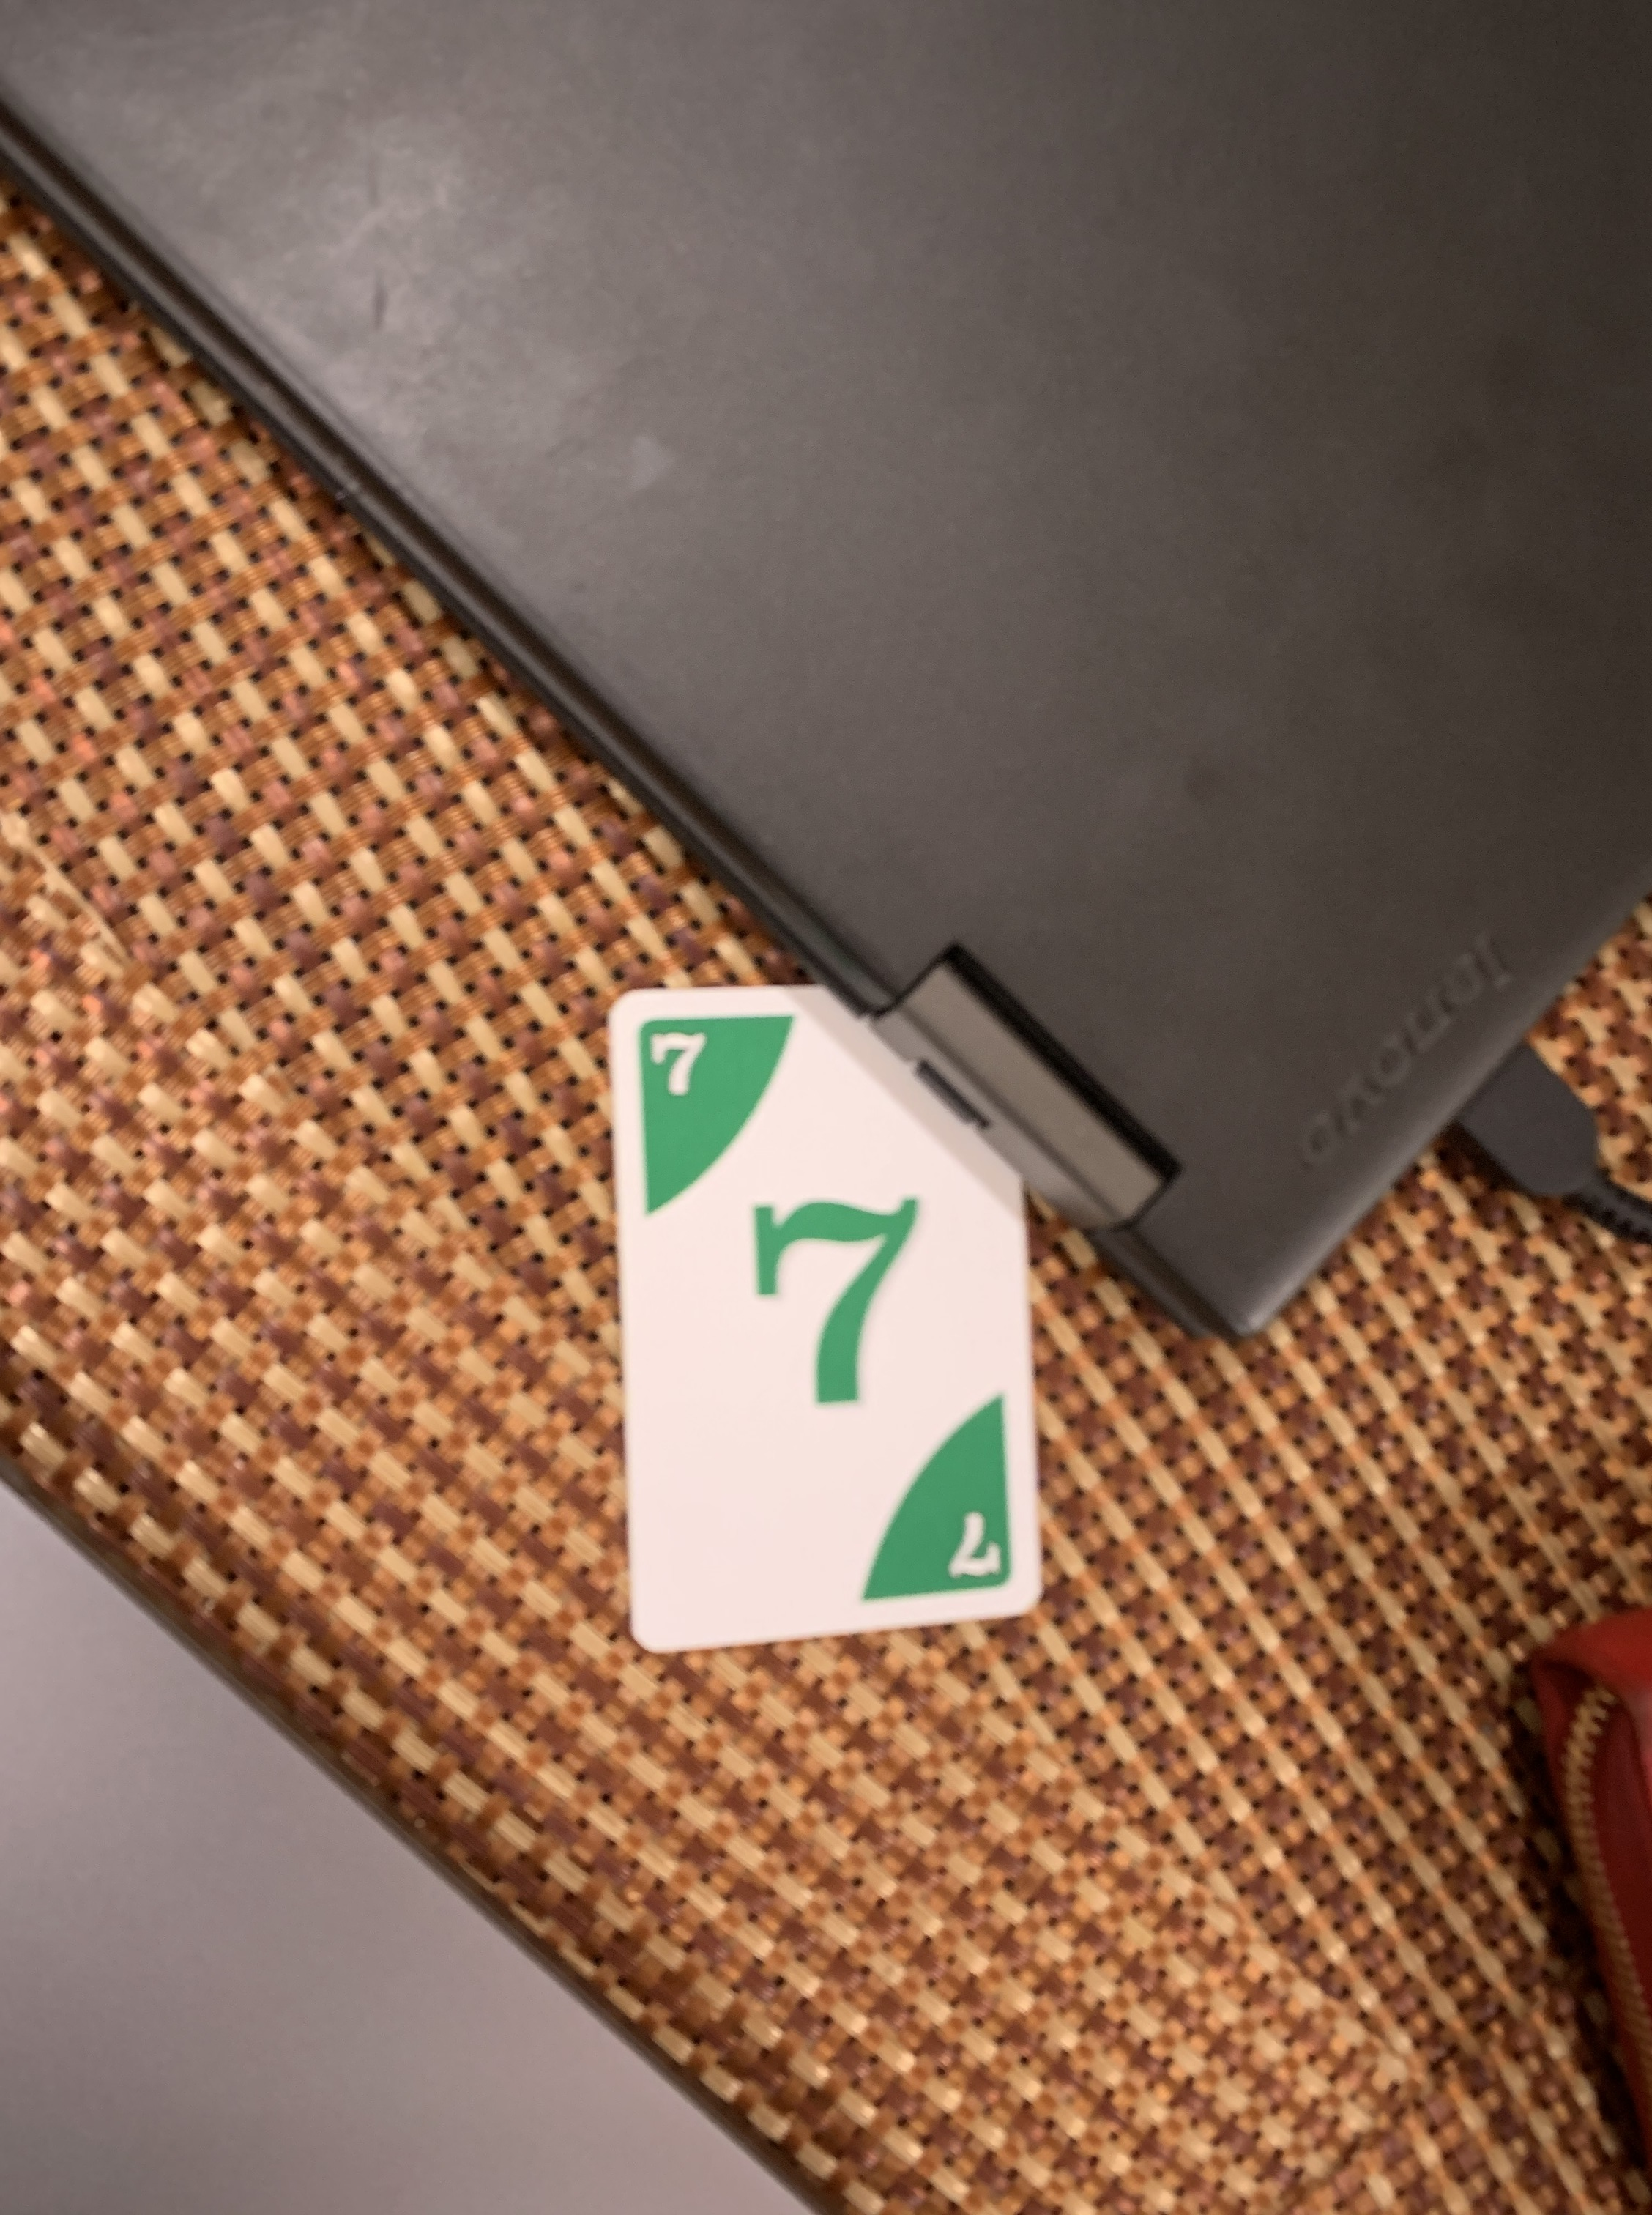seven: (580, 958, 1065, 1668)
